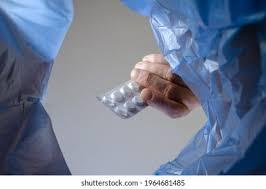pill_Strip: (97, 80, 146, 118)
